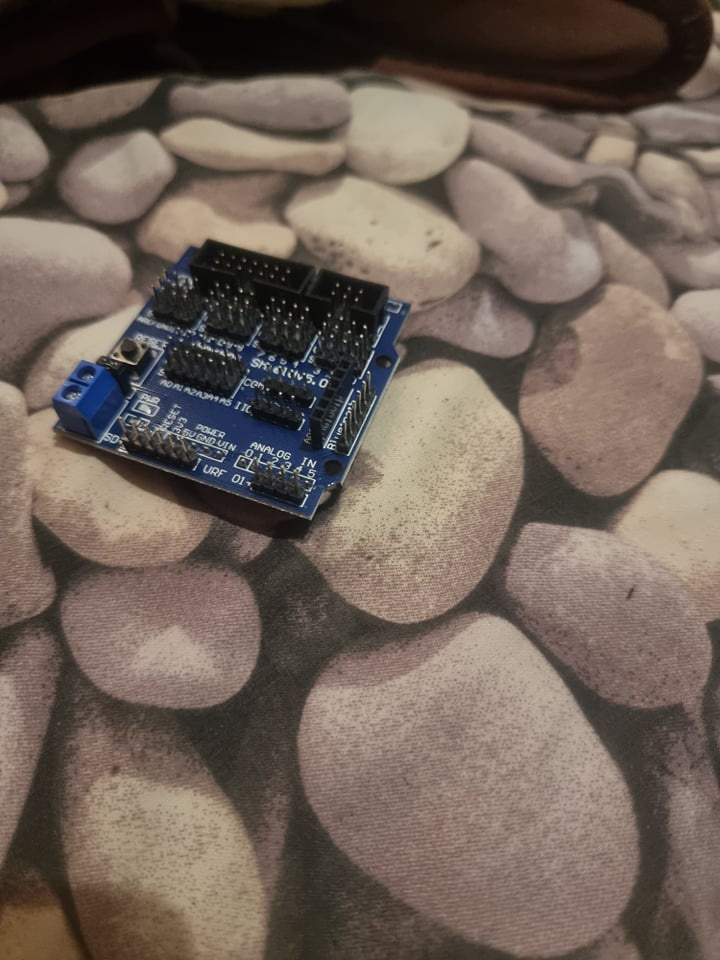5V EXPANSION: (50, 238, 414, 522)
